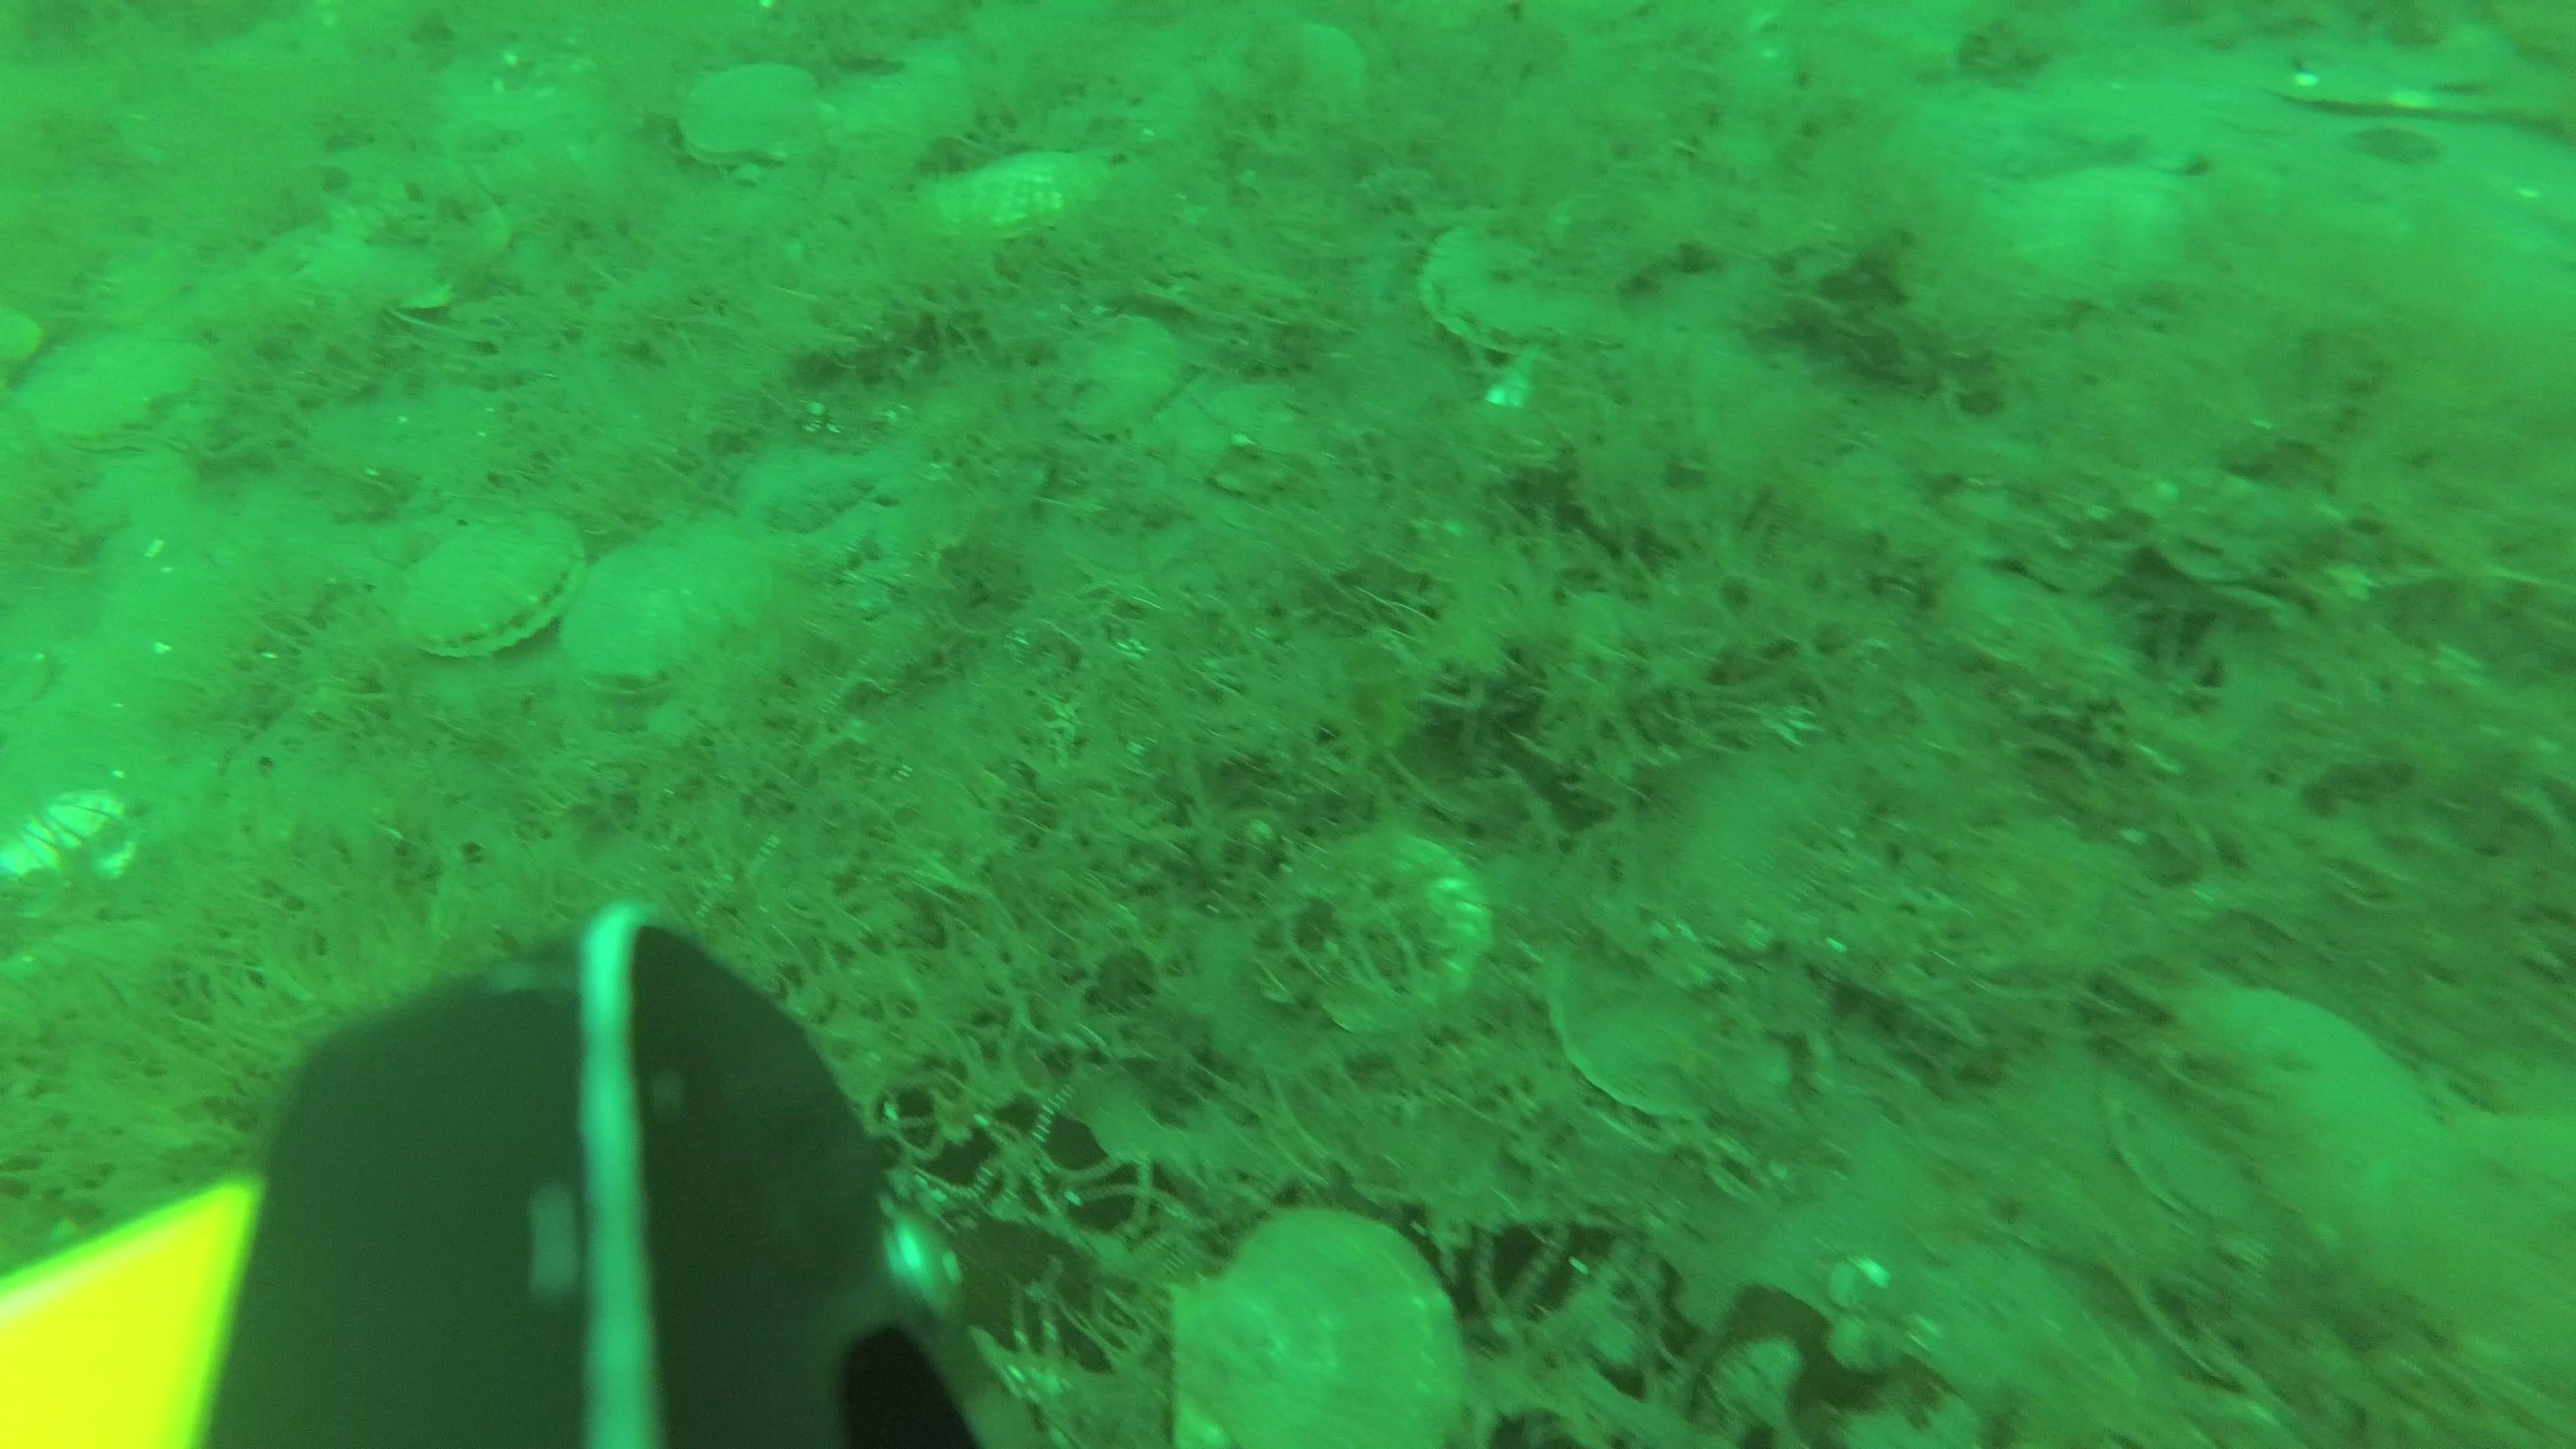scallop: (2088, 989, 2442, 1237), (1157, 1201, 1465, 1449), (1543, 909, 1785, 1118), (1292, 828, 1499, 1028), (561, 522, 778, 699), (386, 506, 573, 663), (1415, 211, 1619, 356), (303, 177, 506, 318), (674, 65, 844, 170), (0, 786, 134, 916), (916, 152, 1108, 230), (1060, 313, 1178, 435)
